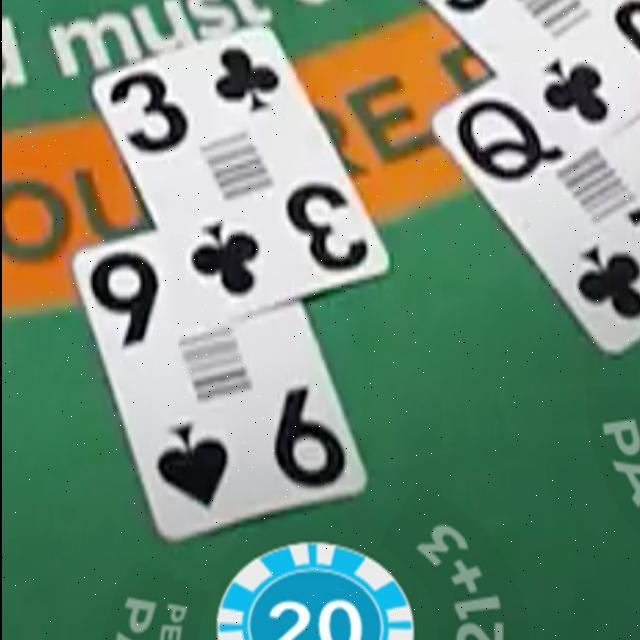Card-3: (92, 23, 389, 328)
Card-9: (71, 230, 366, 539)
Card-Q: (432, 78, 640, 354)
